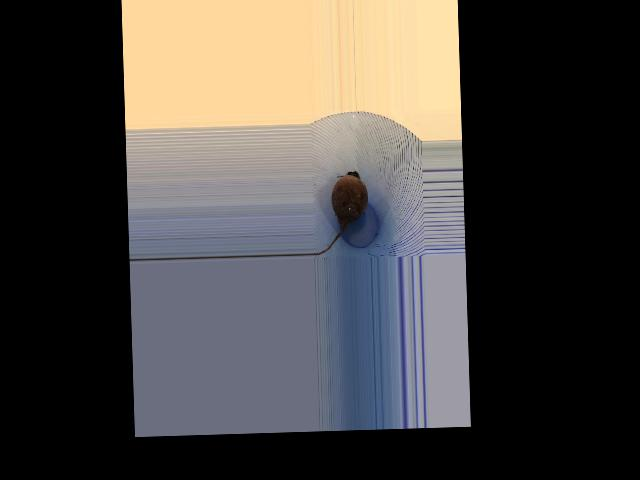beet: (310, 170, 369, 254)
